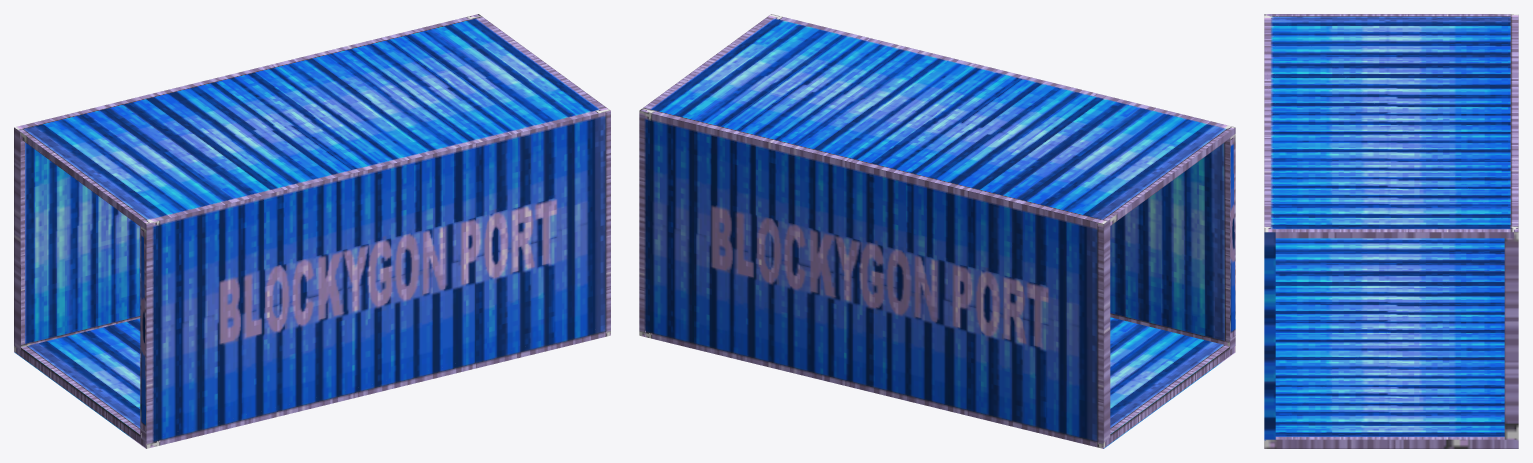
The model's file is BLOCKYGON_BLUE CONTAINER(OPEN).fbx.
The picture shows the model from 3 angles, left to right: view 1: azimuth 30°, elevation 25°; view 2: azimuth 150°, elevation 25°; view 3: azimuth 270°, elevation 25°; orthographic projection. The views are drawn at different scales.
Visible parts, largest first — view 1: BLOCKYGON_BLUE_CONTAINER_OPEN_; view 2: BLOCKYGON_BLUE_CONTAINER_OPEN_; view 3: BLOCKYGON_BLUE_CONTAINER_OPEN_.
Boxes of the visible parts, bbox=[...] form: BLOCKYGON_BLUE_CONTAINER_OPEN_: bbox=[14, 14, 610, 448]; BLOCKYGON_BLUE_CONTAINER_OPEN_: bbox=[639, 14, 1235, 448]; BLOCKYGON_BLUE_CONTAINER_OPEN_: bbox=[1264, 14, 1518, 448].
Size of the model in its own units: 441 by 204 by 217.
